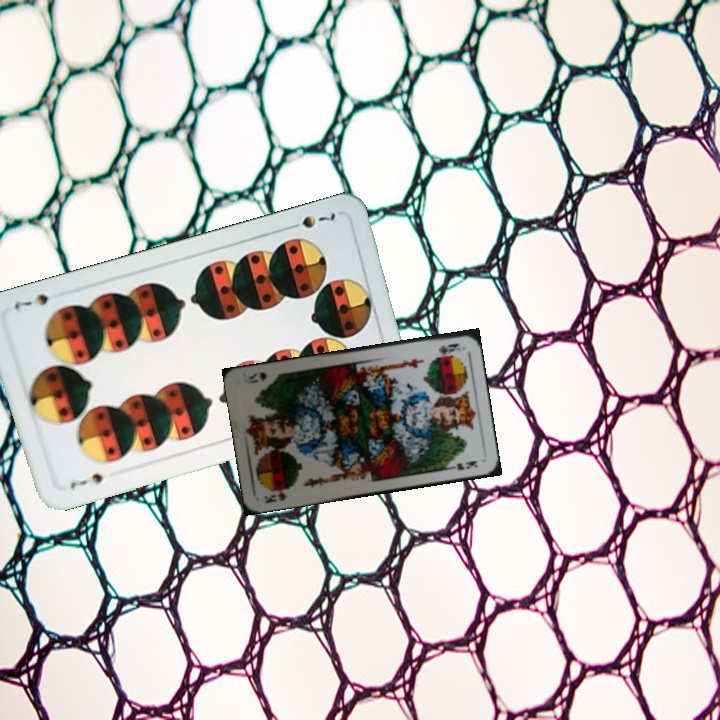S7: (283, 208, 338, 232), (66, 469, 107, 492)
SK: (260, 484, 293, 506), (434, 339, 464, 357)
